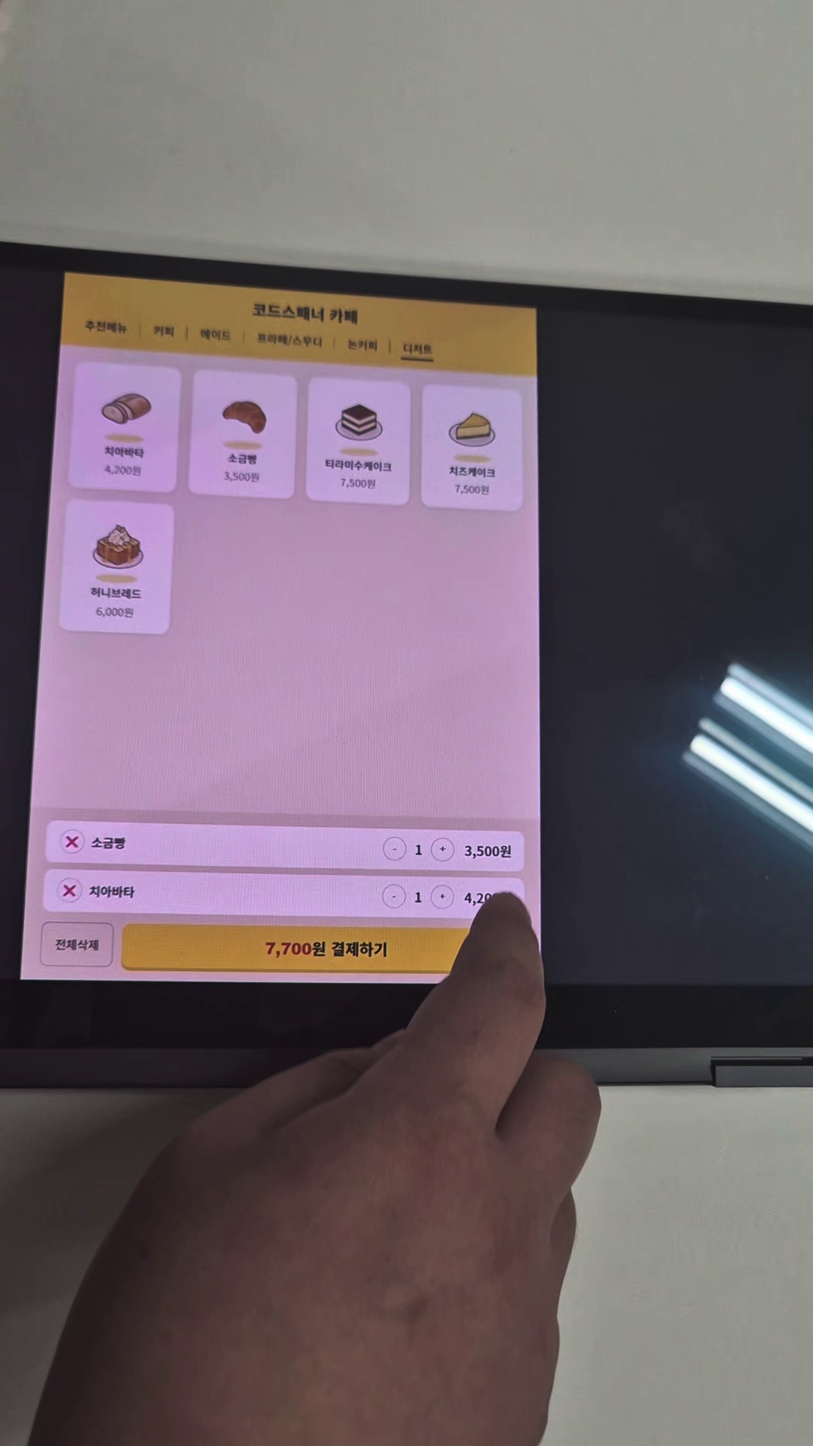action_button: (123, 923, 512, 974), (40, 923, 112, 967)
cart_item: (47, 819, 523, 871), (43, 870, 522, 919)
category_tab: (257, 332, 324, 349), (83, 315, 127, 336), (199, 328, 232, 342), (347, 339, 379, 352), (403, 343, 433, 355), (153, 325, 176, 337)
menu_back: (64, 500, 172, 634), (73, 362, 180, 489), (189, 371, 296, 497), (305, 376, 409, 505), (424, 383, 524, 510)
menu_name: (325, 457, 392, 473), (90, 585, 143, 600), (449, 465, 497, 479), (104, 446, 146, 459), (228, 452, 258, 465)
menu_price: (222, 470, 261, 484), (105, 464, 143, 477), (96, 606, 134, 618), (341, 478, 377, 490), (454, 485, 490, 496)
